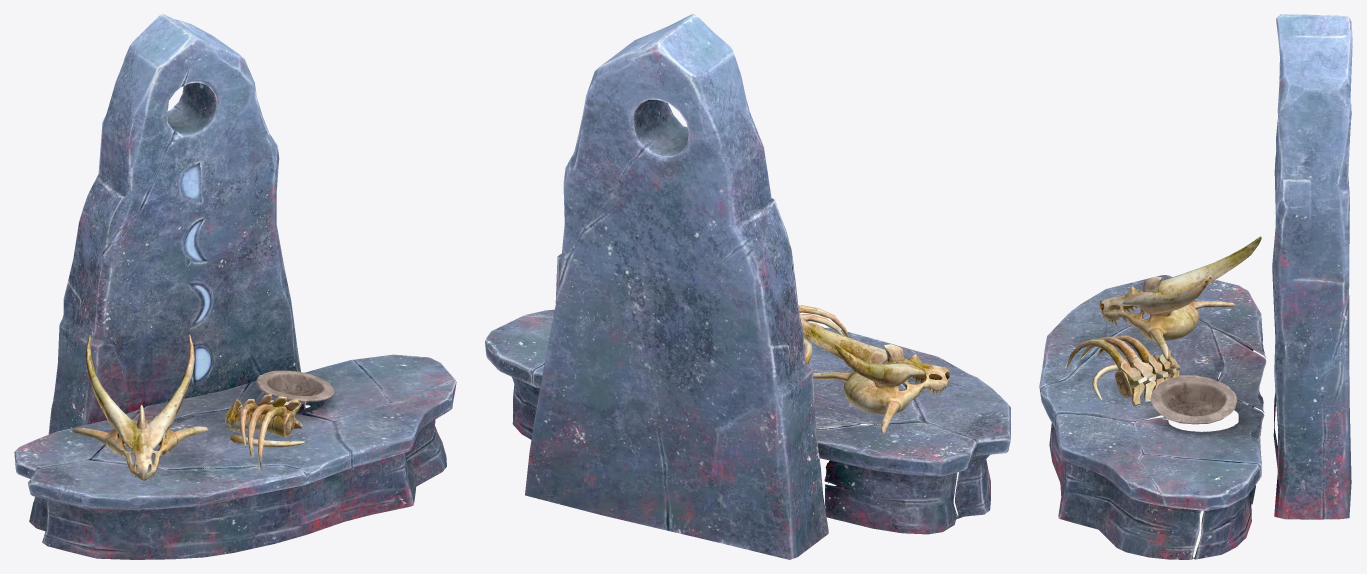
The picture shows the model from 3 angles, left to right: view 1: azimuth 30°, elevation 25°; view 2: azimuth 150°, elevation 25°; view 3: azimuth 270°, elevation 25°; orthographic projection. The views are drawn at different scales.
Parts seen in each view (by area): view 1: SM_Lougrims_Shrine_01_LOD0; view 2: SM_Lougrims_Shrine_01_LOD0; view 3: SM_Lougrims_Shrine_01_LOD0.
Boxes of the visible parts, <box> form: SM_Lougrims_Shrine_01_LOD0: <box>14,14,456,559</box>; SM_Lougrims_Shrine_01_LOD0: <box>485,14,1010,559</box>; SM_Lougrims_Shrine_01_LOD0: <box>1039,14,1352,559</box>.
Bounding box in the file's own units: 4.82 × 4.49 × 2.87.
Materials: 2 (2 with a texture image).
